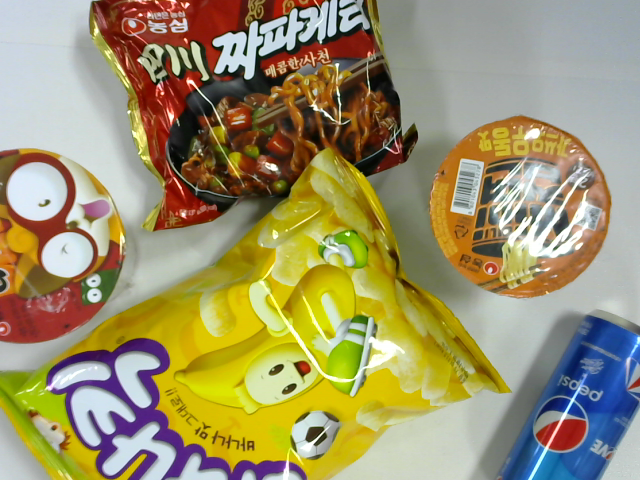Banana_Kick: (1, 146, 513, 479)
Pepsi_Cola_Can_250ml: (494, 309, 639, 480)
Raccoon: (1, 149, 123, 342)
Sichuan_Chapaghetti: (90, 1, 420, 233)
Udongmini: (429, 115, 611, 299)
